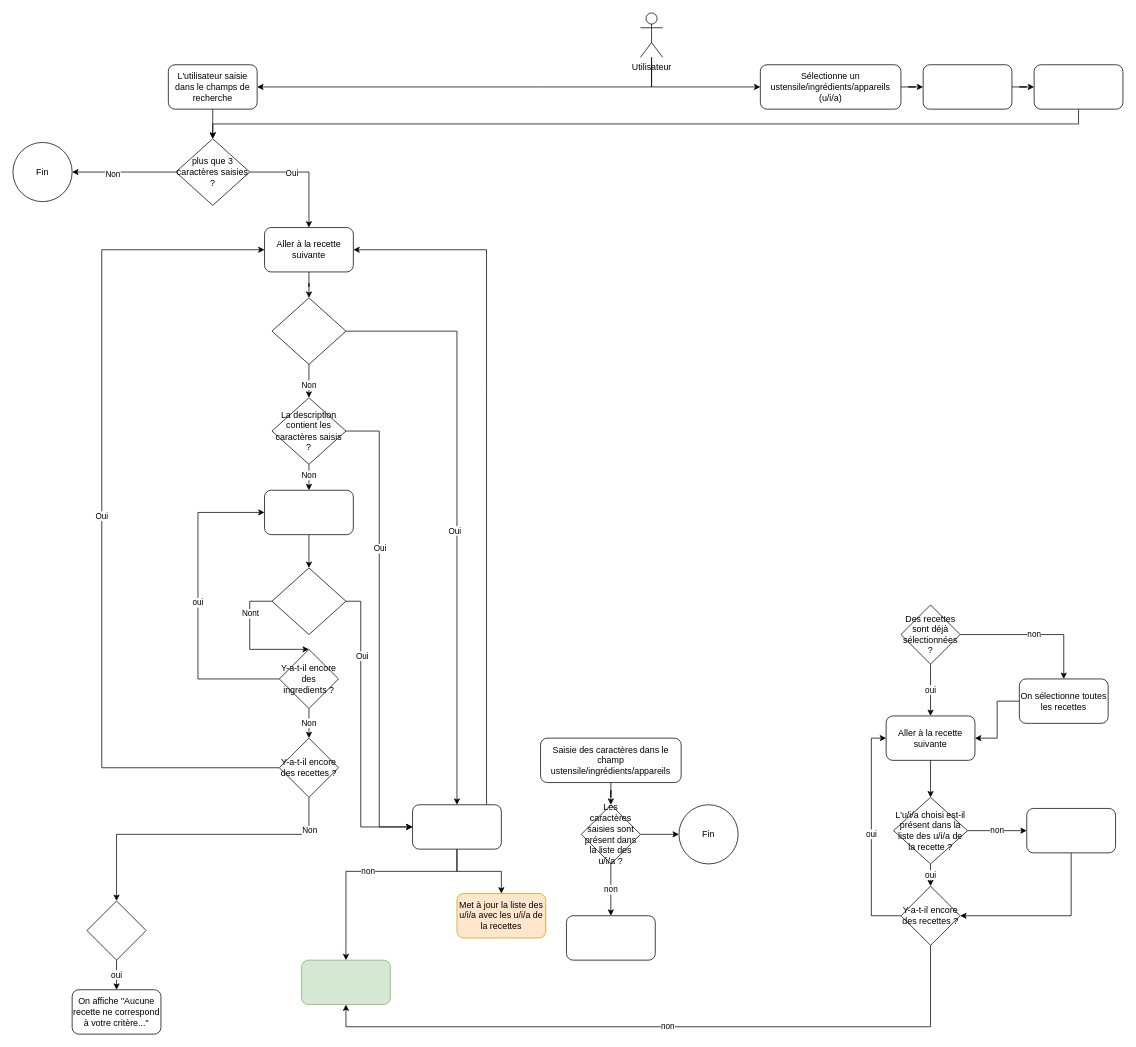
This 1136x1047 diagram has some shape labels left out. The shapes that lost their labels are listed below. From the top down, each one's centre as x and y in pixels, then its label:
point 967,86: Le tag s'affiche sous le champs de recherche
point 1078,86: Ajout du tag à la liste des tag (u/i/a)
point 308,330: Le titre contient les caractères saisis ?
point 308,512: Aller à l'ingrédient suivant de la recette
point 308,601: L'ingrédient contient les caractères saisis ?
point 456,826: On ajoute la recette à la liste des recettes sélectionnées
point 1071,830: Supprime la recette des recettes sélectionnées
point 116,930: il n'y a pas de recette sélectionné
point 610,937: le mot clé est supprimé de la liste u/i/a
point 345,982: On met à jour la liste des recettes sélectionnées
